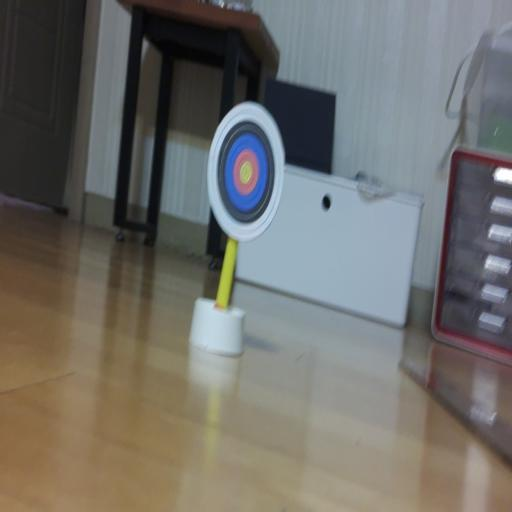target: (208, 102, 285, 241)
